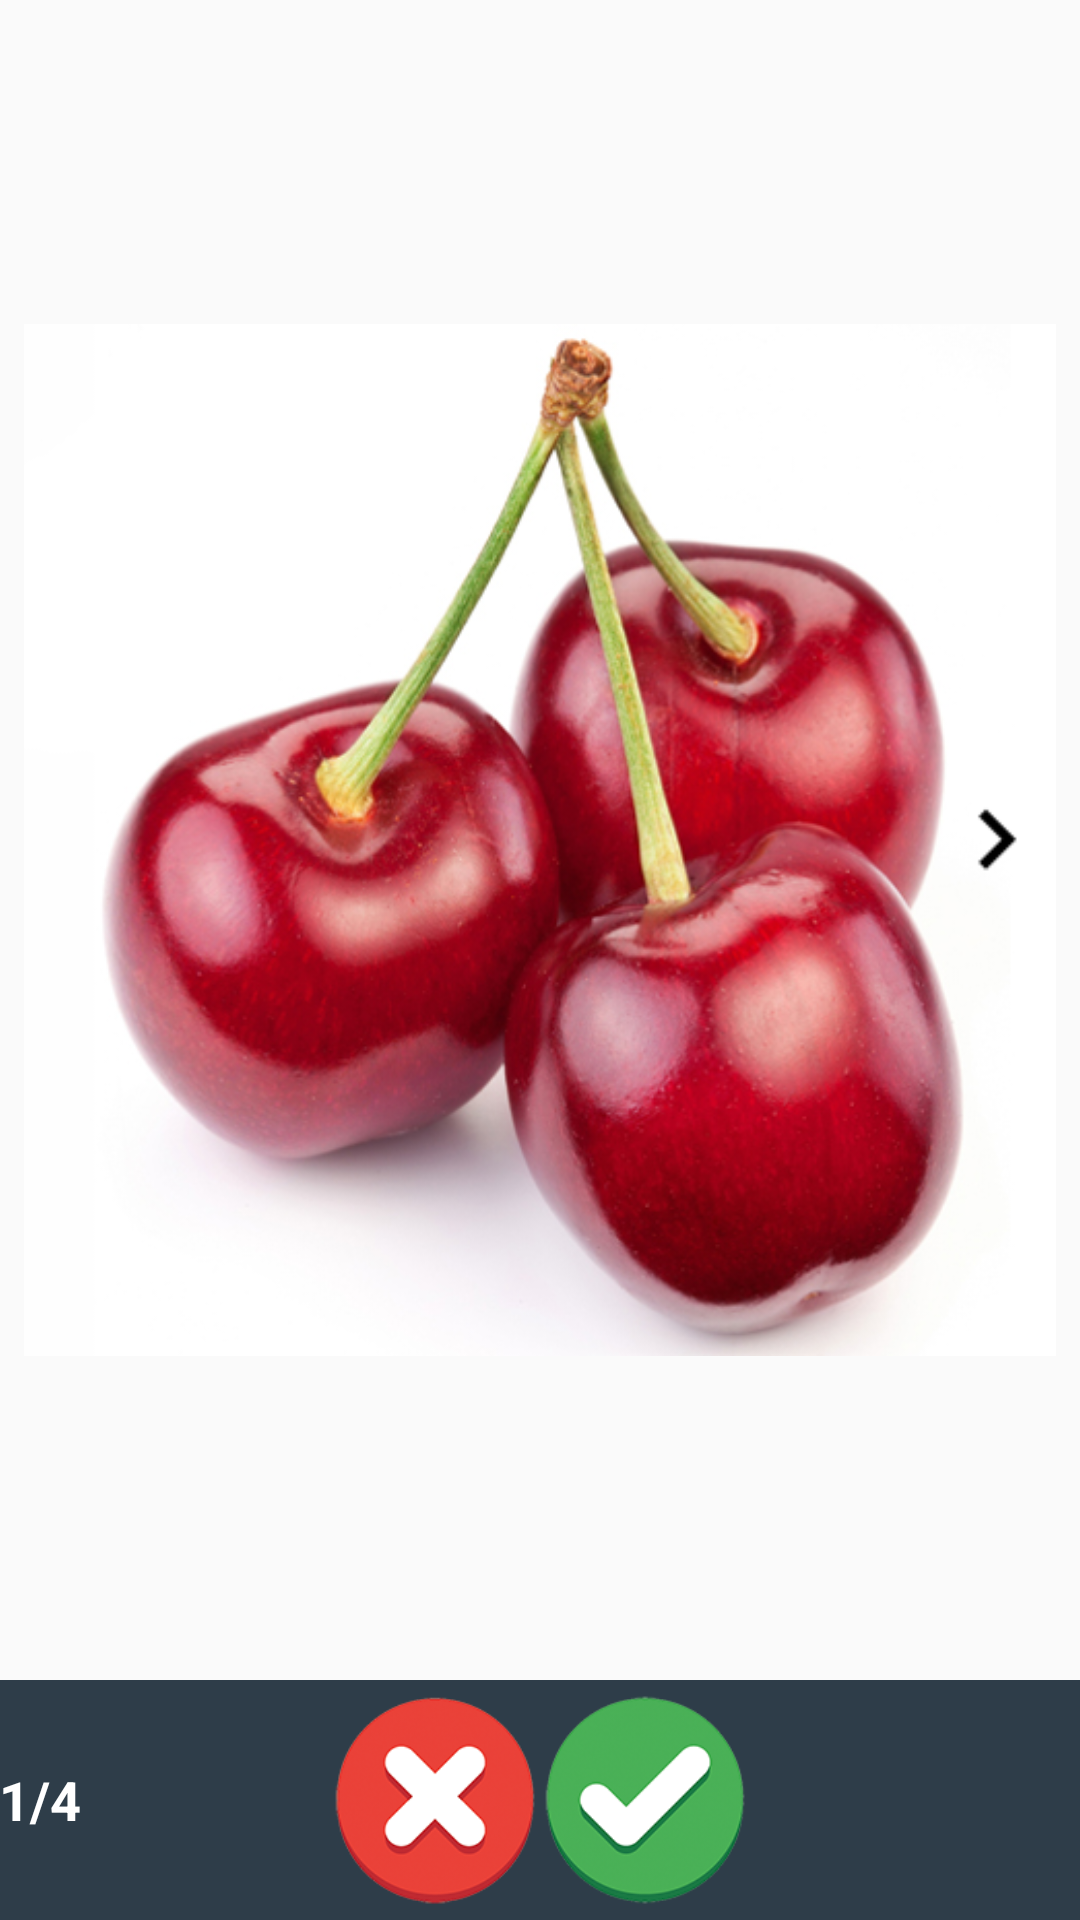

Locate icon controls on the screen. Image size 1080x1920, boxes as box=[x1, y1, x2, y2].
correct: box=[546, 1696, 744, 1903]
keyboard arrow right: box=[978, 809, 1017, 870]
wrong: box=[335, 1697, 535, 1904]
